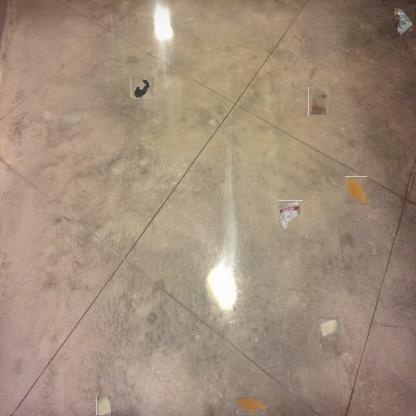dirty: (277, 200, 303, 229), (394, 7, 416, 37), (308, 86, 329, 116), (131, 76, 153, 98), (317, 318, 339, 338), (96, 396, 111, 416)
liquid: (345, 176, 367, 205), (236, 397, 266, 415)
